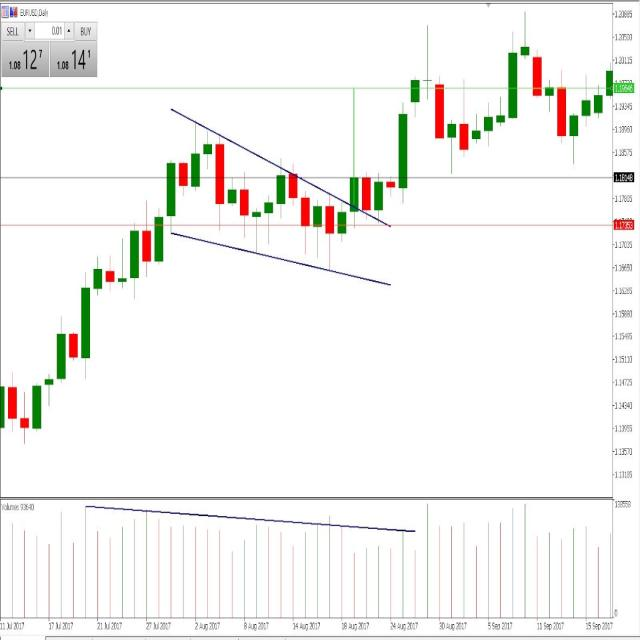Falling-Wedge: (115, 110, 403, 278)
